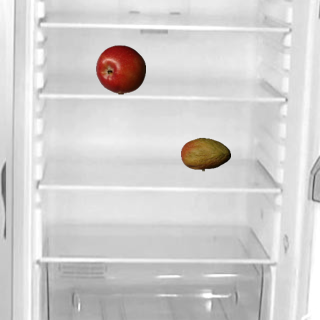Apple Braeburn: (95, 44, 145, 94)
Papaya: (180, 129, 230, 179)
